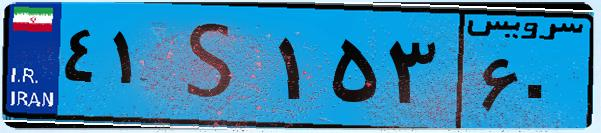0: (525, 38, 570, 115)
1: (270, 28, 330, 110), (110, 28, 158, 98)
3: (385, 28, 445, 110)
4: (57, 26, 110, 100)
5: (330, 28, 385, 110)
6: (475, 38, 525, 113)
S: (158, 12, 270, 120)
